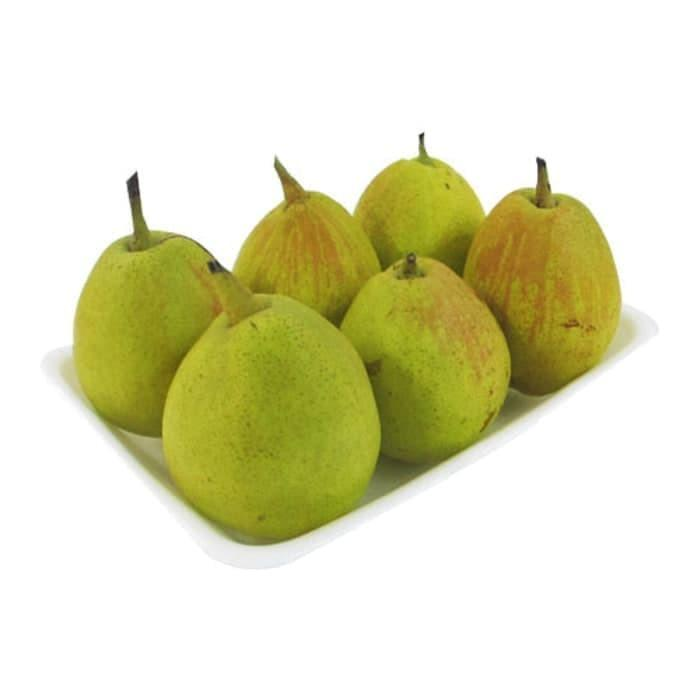Pear Unripe: (179, 246, 339, 596)
